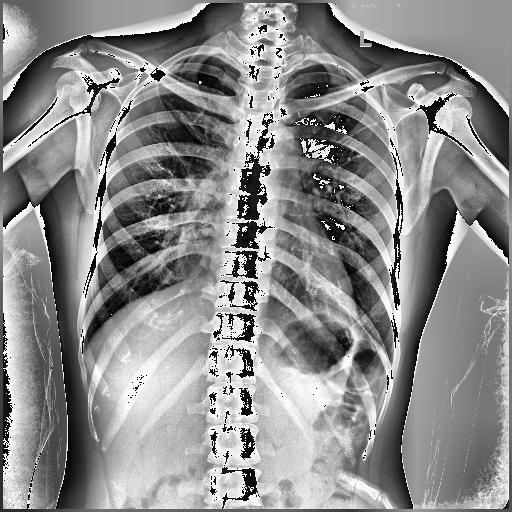13- Pulmonary fibrosis: (160, 89, 230, 206), (302, 118, 384, 156), (303, 118, 378, 157), (304, 120, 385, 156), (162, 99, 210, 148)
